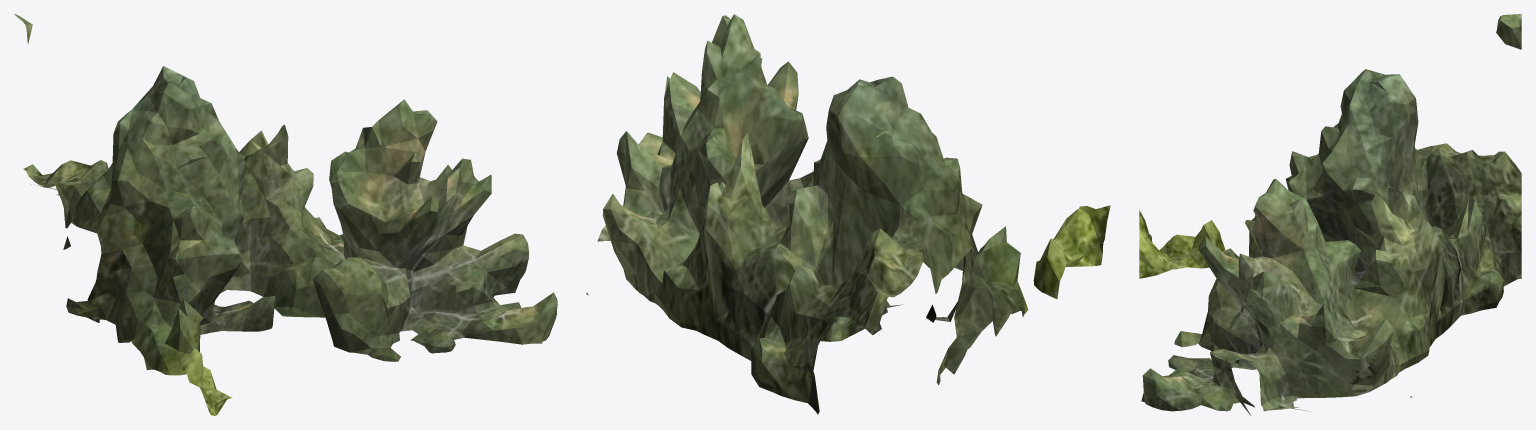
The picture shows the model from 3 angles, left to right: view 1: azimuth 30°, elevation 25°; view 2: azimuth 150°, elevation 25°; view 3: azimuth 270°, elevation 25°; orthographic projection. The views are drawn at different scales.
Bounding box in the file's own units: 5.9 × 4.1 × 5.9.
4 materials, 4 textured.
